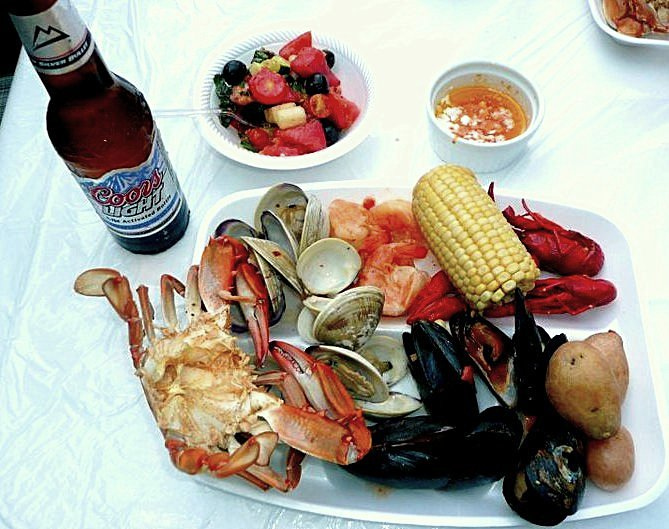boiled potatoes: (546, 334, 643, 504)
